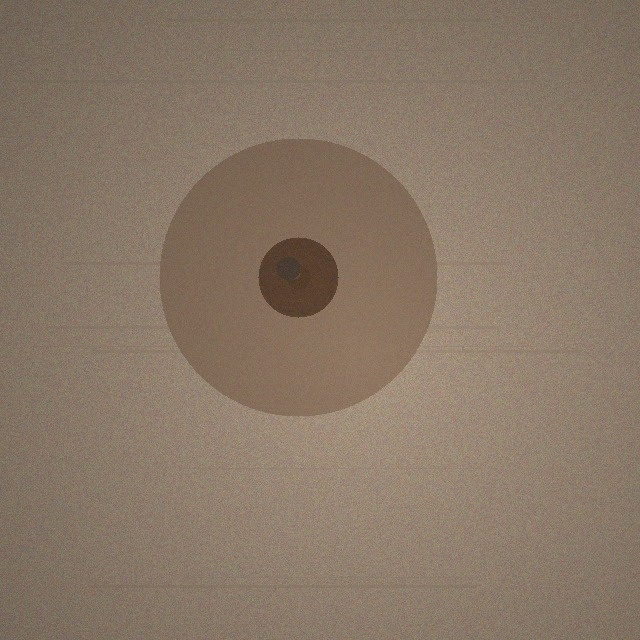cold_weld: (159, 138, 437, 416)
